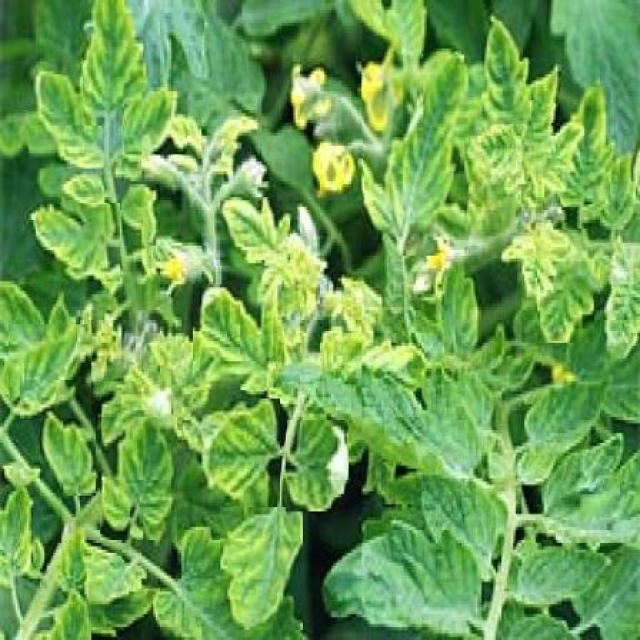Yellow Leaf Curl Virus: (362, 54, 469, 256), (220, 507, 304, 630), (100, 417, 178, 540), (193, 399, 280, 508), (194, 284, 274, 390), (8, 324, 92, 419), (83, 7, 146, 126), (29, 74, 104, 169), (36, 203, 120, 281), (537, 229, 594, 342), (214, 187, 294, 266), (560, 87, 611, 204), (476, 22, 531, 125), (286, 420, 348, 511), (40, 407, 96, 496), (124, 84, 187, 155)
